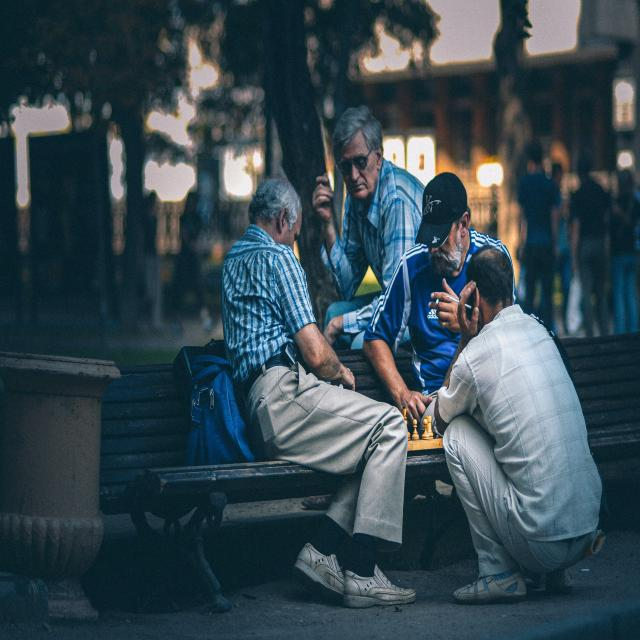nonfall: (225, 173, 406, 604), (463, 242, 609, 611), (415, 157, 492, 389), (332, 113, 411, 333)
